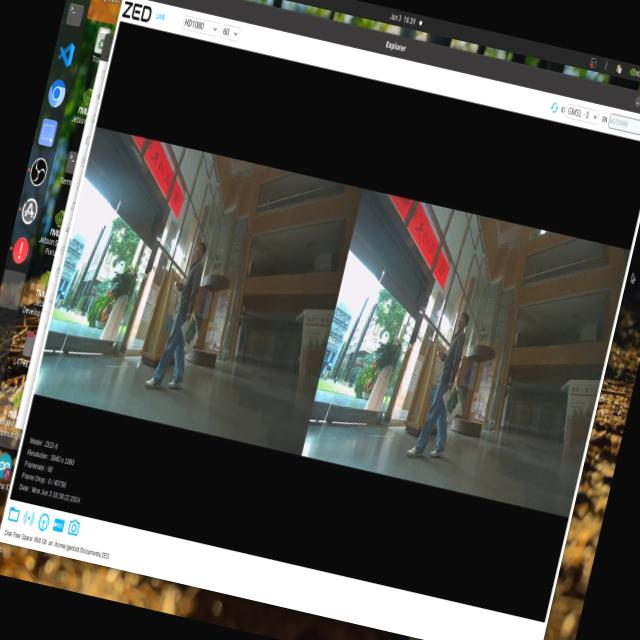green: (439, 381, 463, 422), (180, 312, 200, 348)
